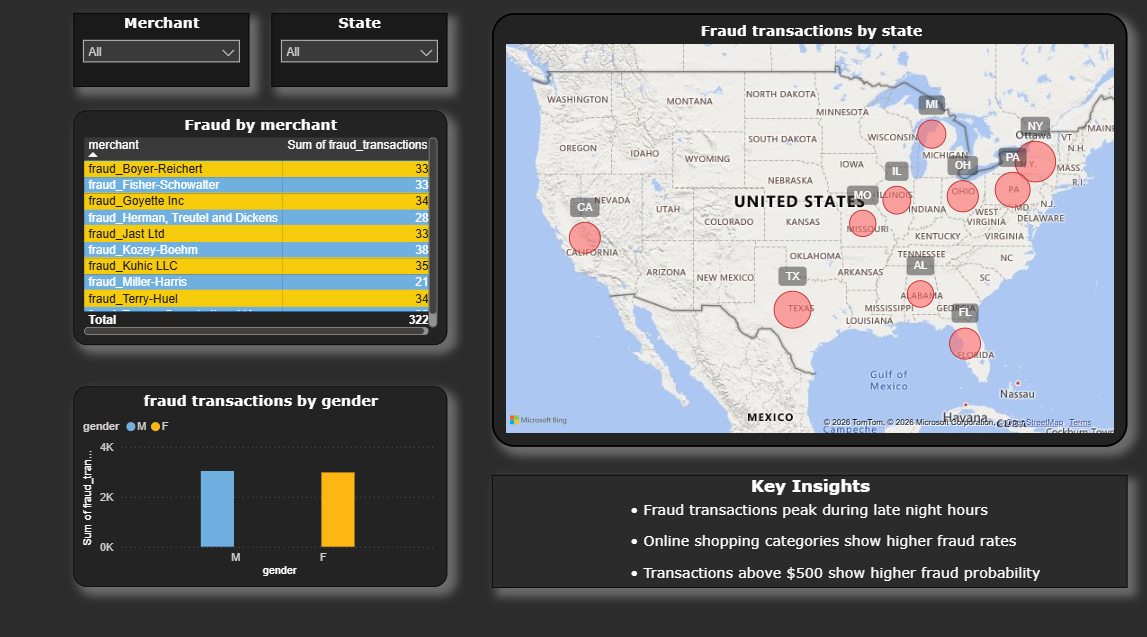

The page's visual inventory and layout, read from the dashboard file:
{"tool":"powerbi","page":{"name":"Page 2","canvas":[1280,720],"ordinal":1},"visuals":[{"type":"tableEx","title":"Fraud by merchant","fields":{"Values":["#fr_by_mrct.merchant","Sum(#fr_by_mrct.fraud_transactions)"]},"box":[81.1,128.8,415.1,260.9],"z":0},{"type":"map","title":"Fraud transactions by state","fields":{"Category":["#fr_by_state.state"],"Size":["Sum(#fr_by_state.fraud_transactions)"]},"box":[547.2,20.7,706.2,482],"z":1000},{"type":"clusteredColumnChart","title":"fraud transactions by gender","fields":{"Category":["#fr_by_gender.gender"],"Y":["Sum(#fr_by_gender.fraud_transactions)"],"Series":["#fr_by_gender.gender"]},"box":[81.1,435.8,415.1,222.7],"z":2000},{"type":"slicer","title":"State","fields":{"Values":["#fr_by_state.state"]},"box":[301.7,20,195,81.7],"z":3000},{"type":"slicer","title":"Merchant","fields":{"Values":["#fr_by_mrct.merchant"]},"box":[81.7,20,195,81.7],"z":4000},{"type":"textbox","title":"Key Insights ","box":[547.2,532.9,706.2,125.7],"z":5000}]}

Visuals, with their boxes in screenshot pixels (x1, y1, x2, y2), scaled from the page's 1280x720 canvas onto the 1147x637 screenshot:
"Fraud by merchant" tableEx: <box>73,114,445,345</box>
"Fraud transactions by state" map: <box>490,18,1123,445</box>
"fraud transactions by gender" clusteredColumnChart: <box>73,386,445,583</box>
"State" slicer: <box>270,18,445,90</box>
"Merchant" slicer: <box>73,18,248,90</box>
"Key Insights " textbox: <box>490,471,1123,583</box>
